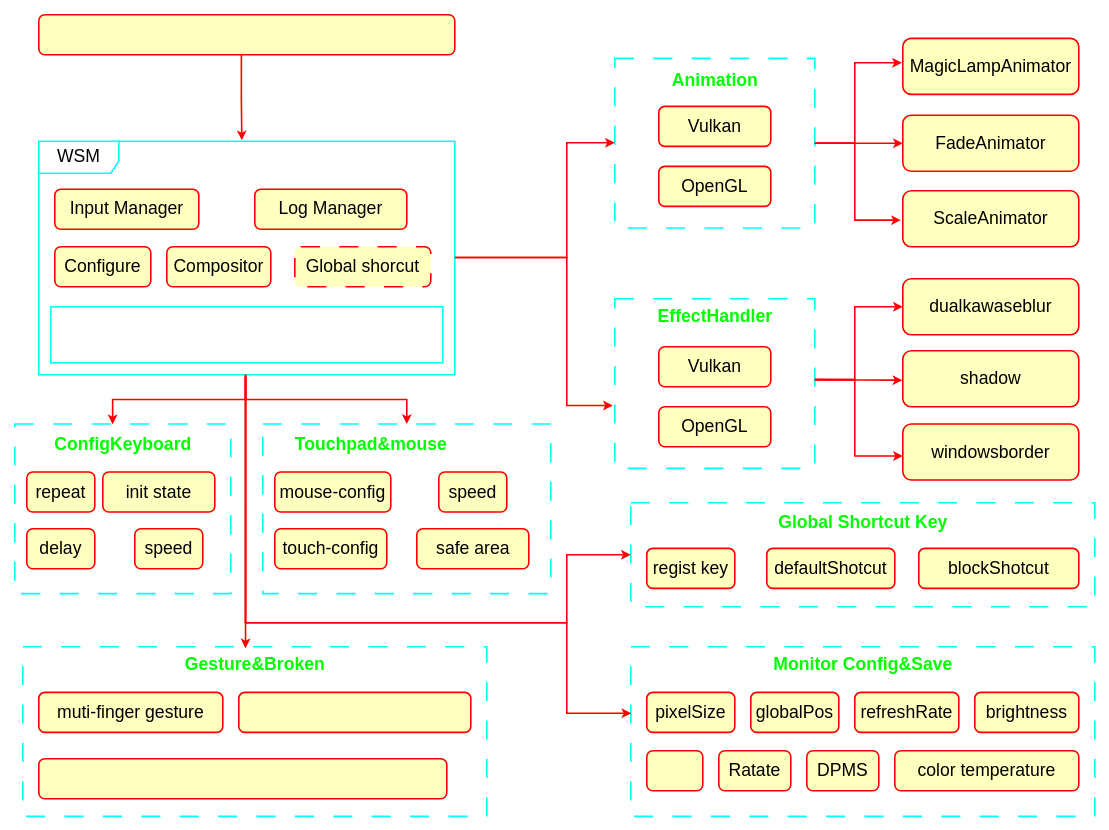
Image size: 1109x830. Some labels were removed from this diagram. The shapes that lost their labels are listed below. From the top down, each one's centre as x and y in pixels, then its label:
At point (246, 34): "libwlroots".
At point (246, 334): "SceneGraph".
At point (354, 712): "pull dowm and slide up".
At point (242, 778): "Gesture release or broken window min animation".
At point (674, 770): "scale".
